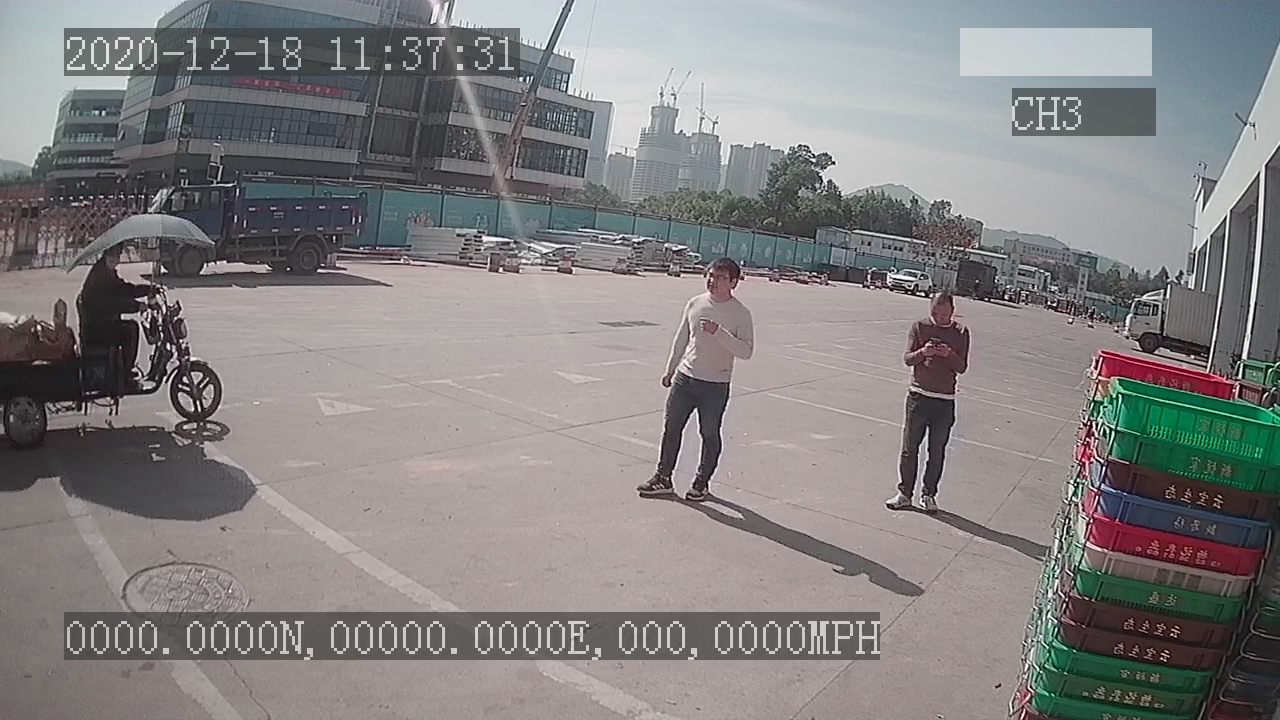person: (634, 256, 754, 500), (882, 288, 975, 519)
